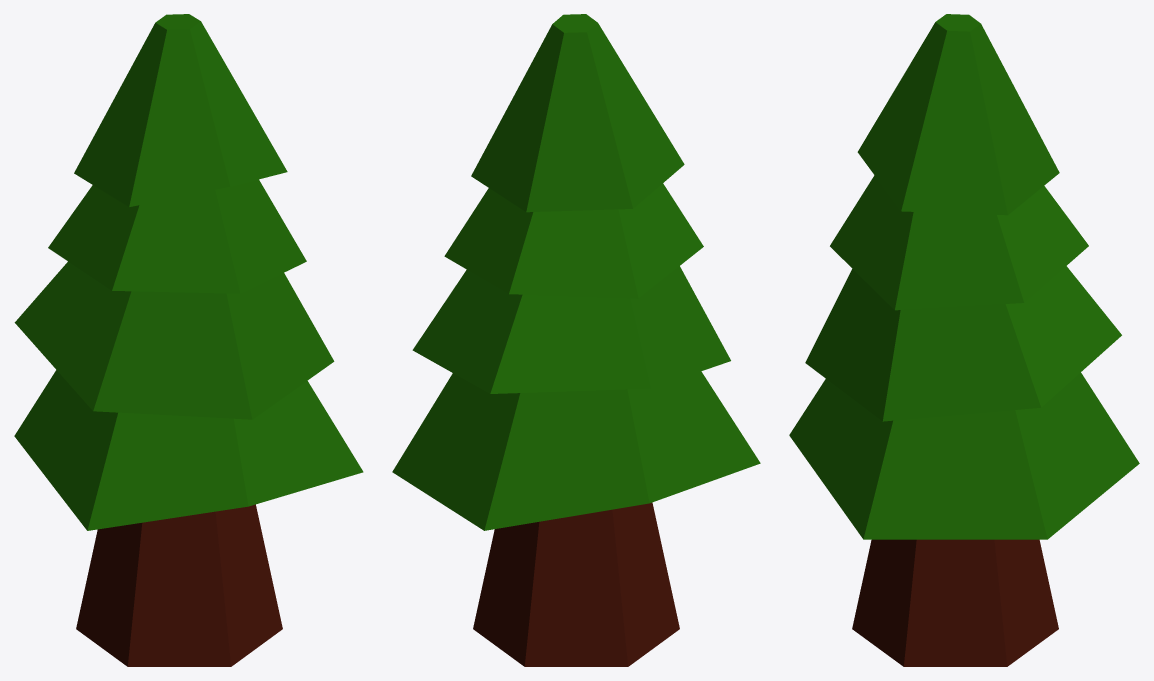
Rendered from tree_mid.obj.
3 renders of one model, left to right at view 1: azimuth 30°, elevation 25°; view 2: azimuth 150°, elevation 25°; view 3: azimuth 270°, elevation 25°, orthographic.
Visible parts, largest first — view 1: Cylinder.002, Cylinder.001, Cylinder, Cylinder.005, Cylinder.004; view 2: Cylinder.001, Cylinder.002, Cylinder, Cylinder.005, Cylinder.004; view 3: Cylinder.001, Cylinder.002, Cylinder.005, Cylinder, Cylinder.004.
Boxes of the visible parts, bbox=[...] form: Cylinder.002: bbox=[14, 261, 334, 419]; Cylinder.001: bbox=[14, 370, 363, 530]; Cylinder: bbox=[76, 504, 282, 666]; Cylinder.005: bbox=[74, 14, 287, 207]; Cylinder.004: bbox=[48, 179, 306, 293]; Cylinder.001: bbox=[392, 371, 760, 530]; Cylinder.002: bbox=[412, 266, 730, 393]; Cylinder: bbox=[473, 502, 679, 666]; Cylinder.005: bbox=[471, 14, 684, 212]; Cylinder.004: bbox=[444, 183, 703, 298]; Cylinder.001: bbox=[789, 372, 1139, 539]; Cylinder.002: bbox=[805, 266, 1121, 421]; Cylinder.005: bbox=[857, 14, 1059, 215]; Cylinder: bbox=[852, 539, 1058, 666]; Cylinder.004: bbox=[830, 175, 1088, 310].
Bounding box in the file's own units: 3.08 × 6.48 × 3.39.
